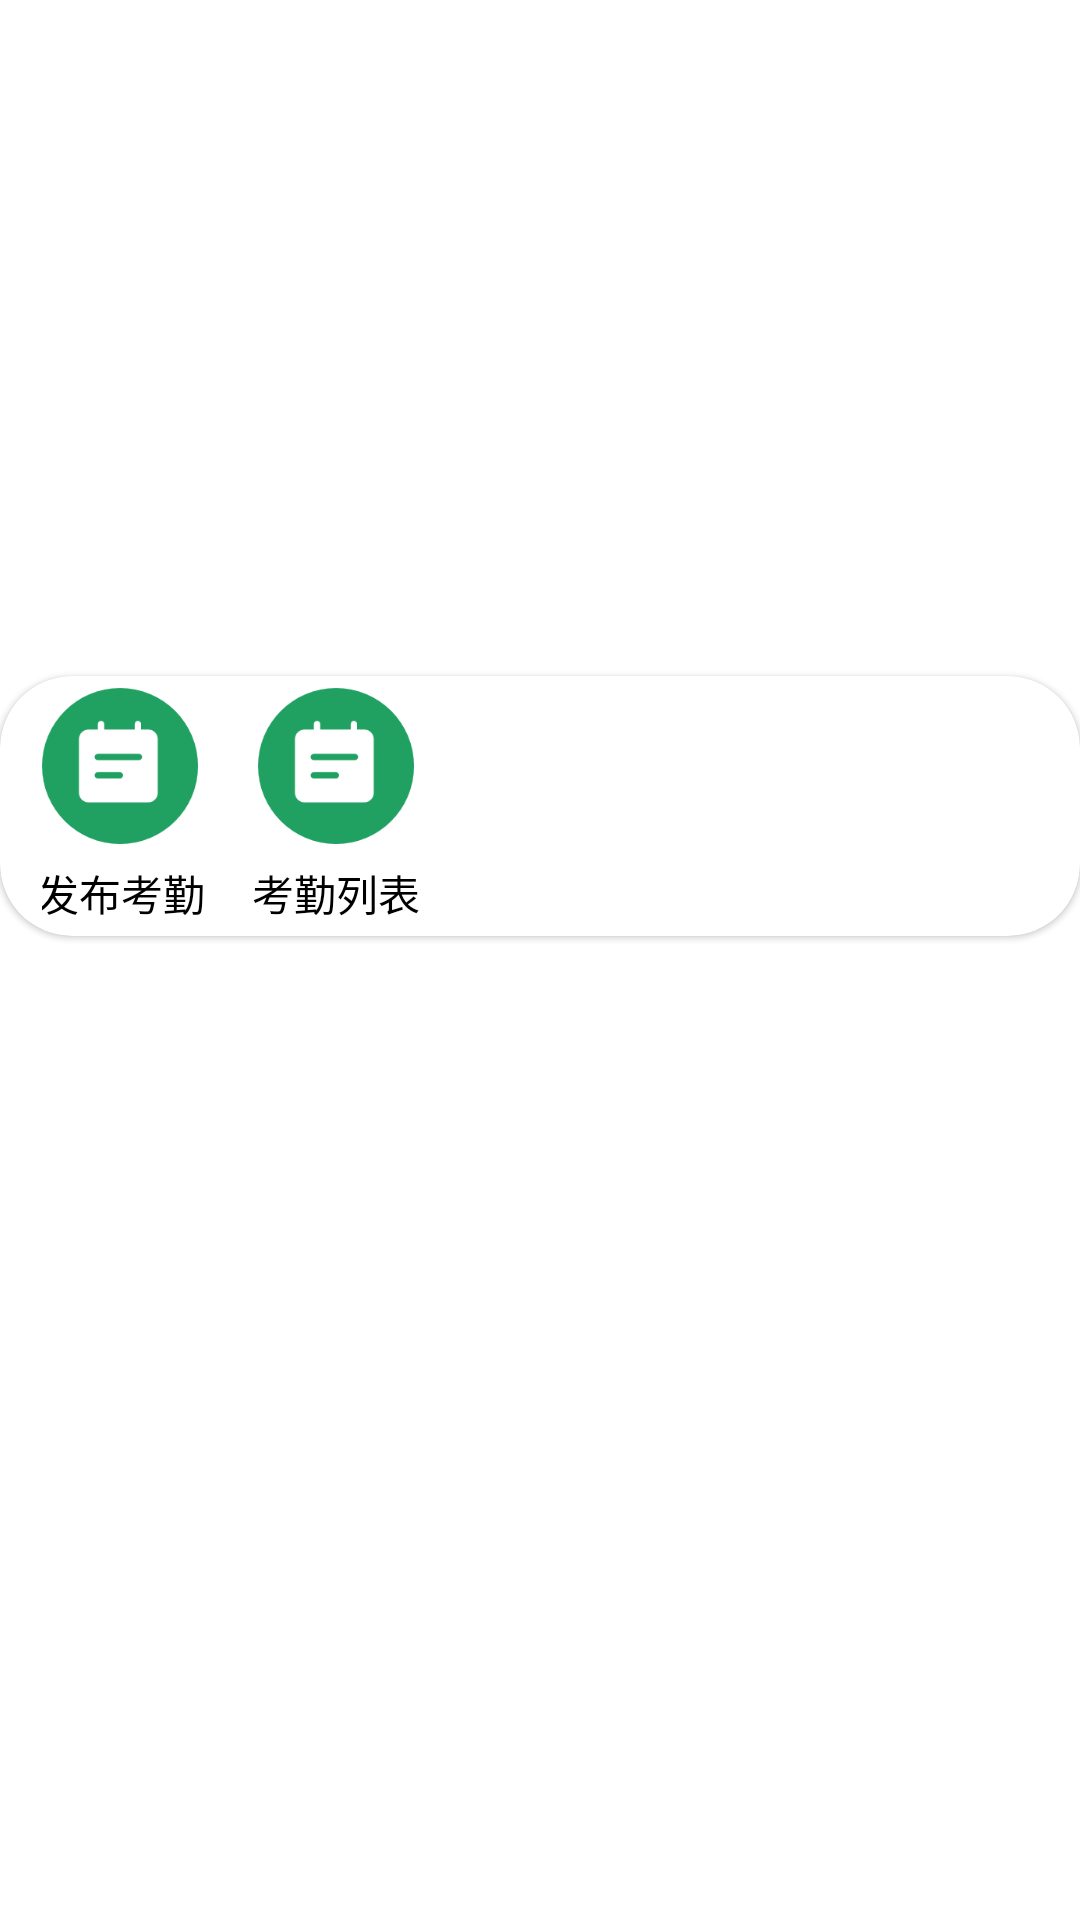

Icon bounding boxes for this 1080px×1920px phone screenshot, format {"x1": x1, "y1": y1, "x2": x2, "y2": y2}:
考勤详情图标: {"x1": 258, "y1": 688, "x2": 414, "y2": 844}
